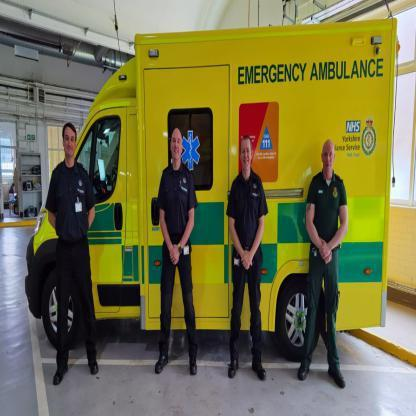Ambulance - v1 Ambulance last generate: (24, 18, 397, 346)
